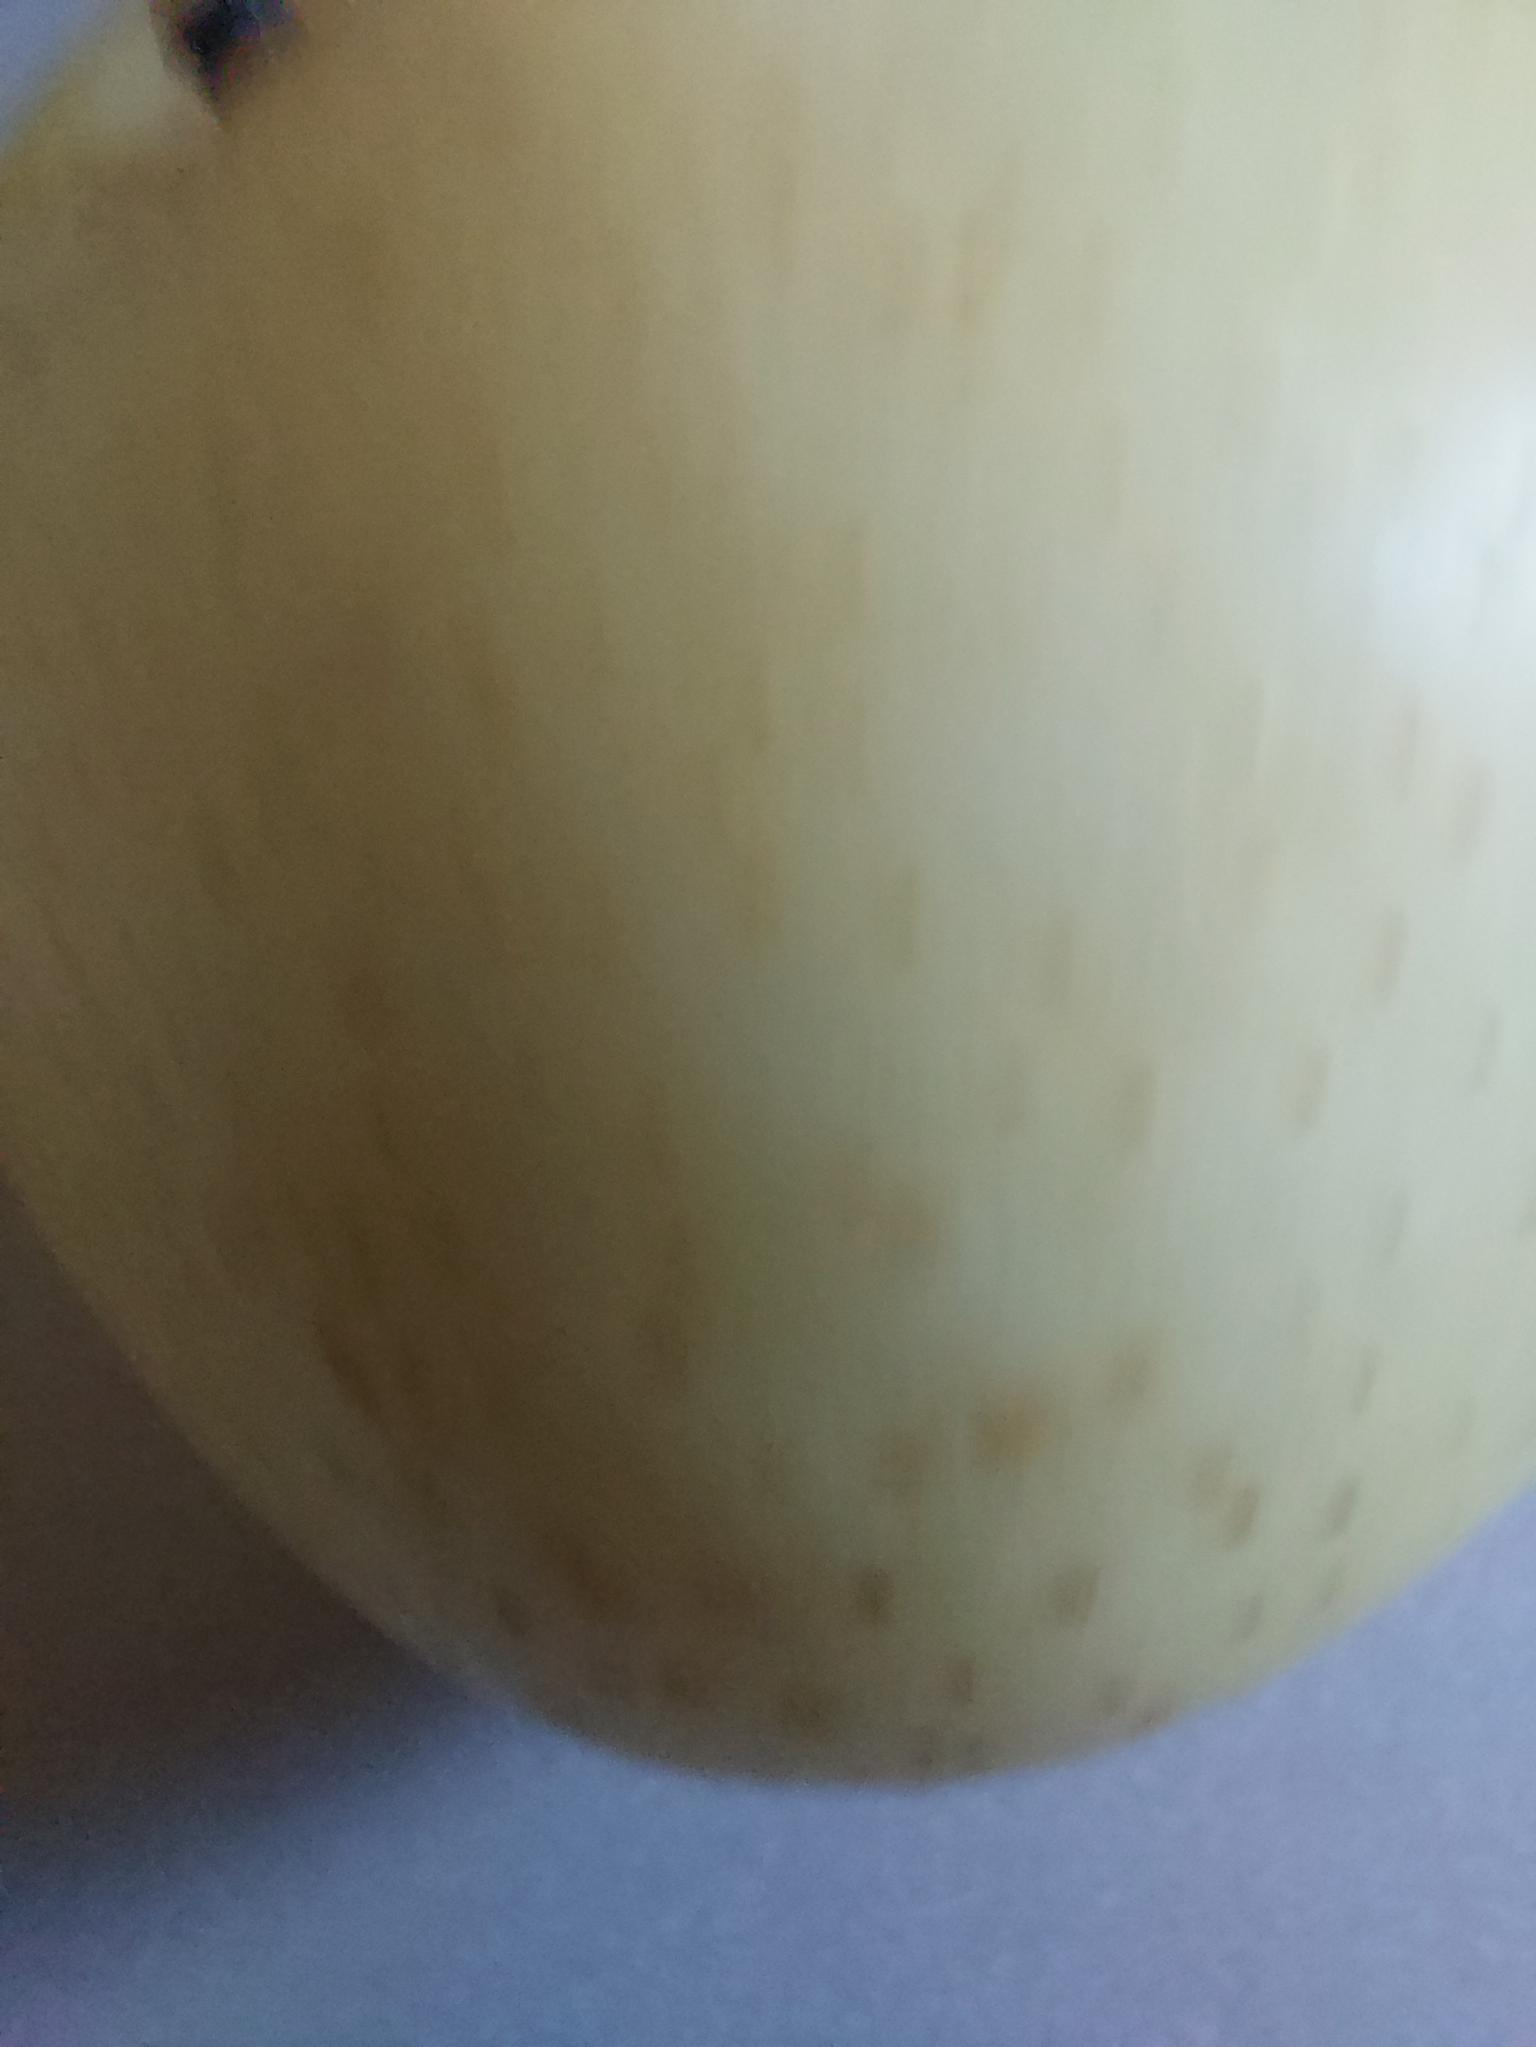Good Pear: (0, 0, 1536, 1795)
